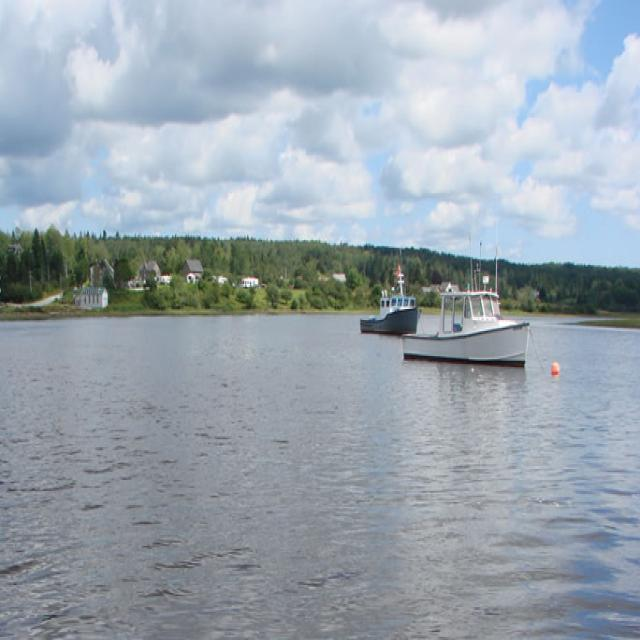houseboat: (401, 280, 531, 372), (369, 268, 417, 339)
